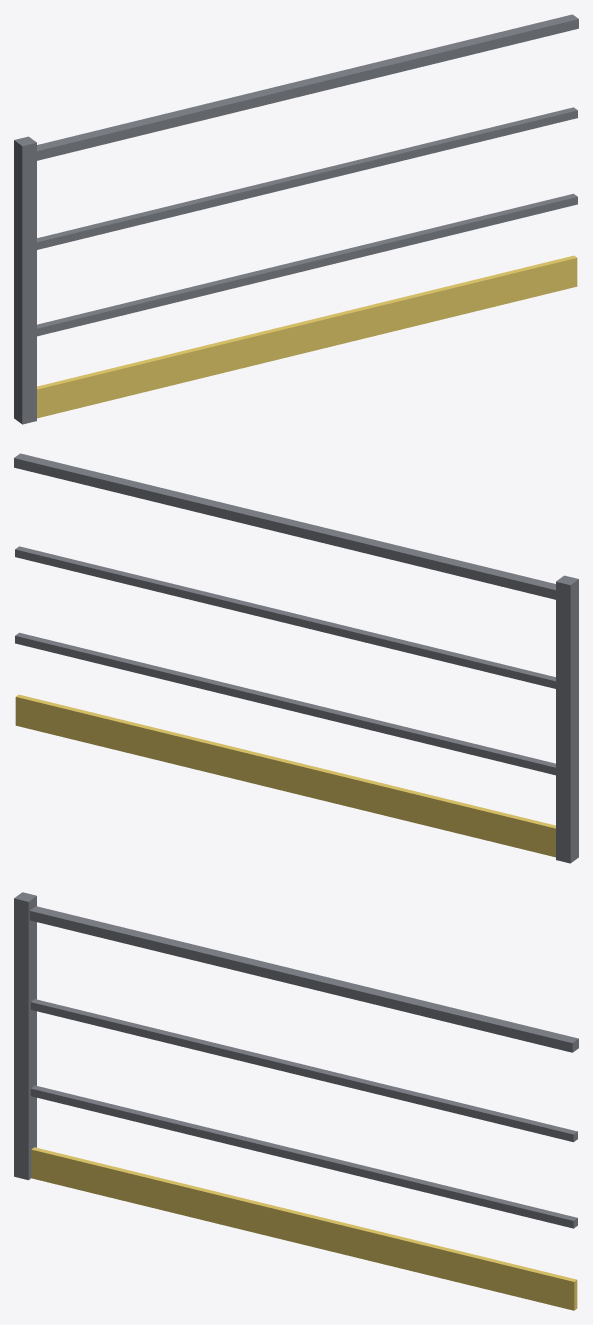
Rendered from fence.glb.
3 renders of one model, top to bottom at view 1: azimuth 30°, elevation 25°; view 2: azimuth 150°, elevation 25°; view 3: azimuth 330°, elevation 25°, orthographic.
Visible parts, largest first — view 1: fence; view 2: fence; view 3: fence.
Boxes of the visible parts, x1=… form: fence: x1=14, y1=14, x2=578, y2=424; fence: x1=14, y1=453, x2=578, y2=863; fence: x1=14, y1=892, x2=578, y2=1310.
Bounding box in the file's own units: 3.04 × 1.45 × 0.08.
